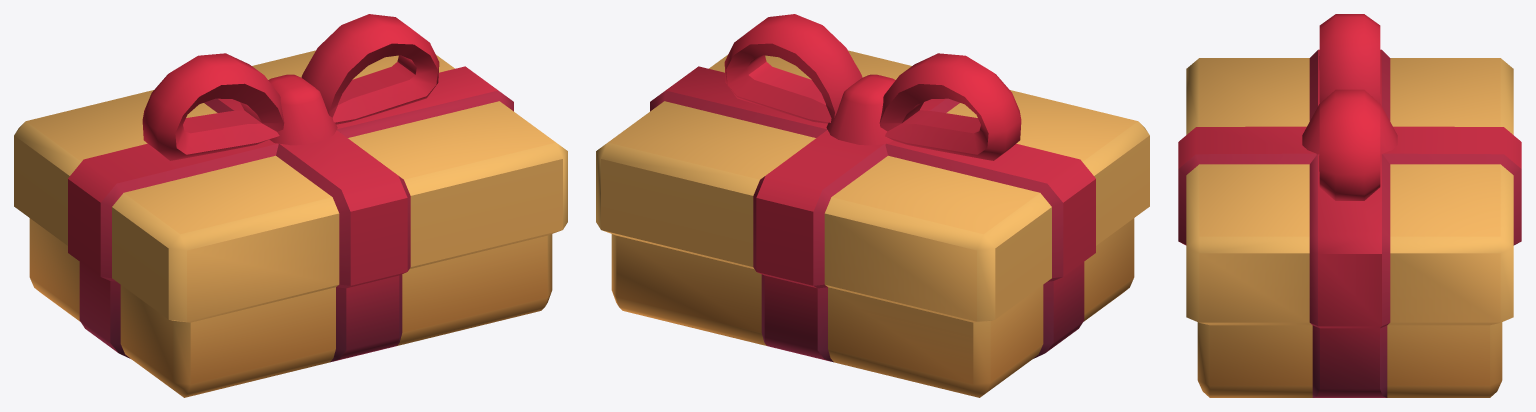
Rendered from present_C_yellow.glb.
3 views of the same model, side by side, from view 1: azimuth 30°, elevation 25°; view 2: azimuth 150°, elevation 25°; view 3: azimuth 270°, elevation 25° (orthographic). The views are drawn at different scales.
Visible parts, largest first — view 1: present_C_yellow; view 2: present_C_yellow; view 3: present_C_yellow.
Boxes of the visible parts, x1,y1,x2,y2 form: present_C_yellow: (14,14,567,397); present_C_yellow: (596,14,1149,397); present_C_yellow: (1178,14,1521,397).
Size of the model in its own units: 0.7638 by 0.4617 by 0.5638.
Materials: 1 (1 with a texture image).
